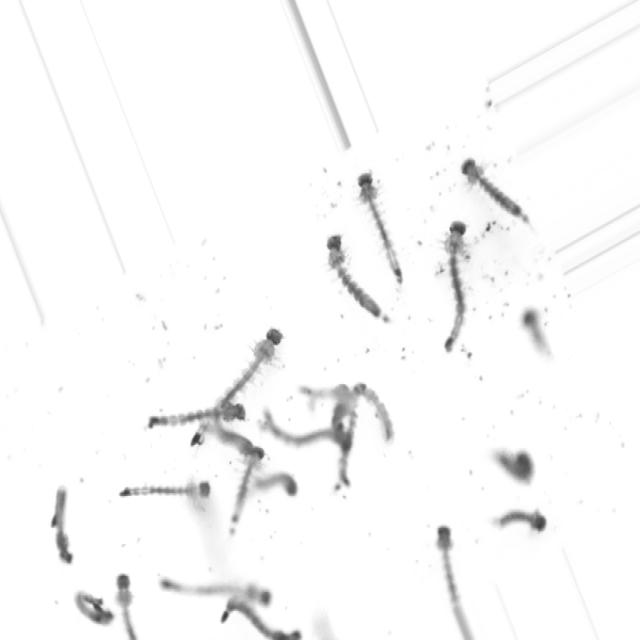larvas: (324, 238, 386, 320), (357, 172, 403, 279), (222, 330, 279, 401), (461, 156, 524, 218), (445, 223, 465, 350), (223, 606, 297, 640), (231, 450, 262, 523), (163, 582, 269, 602), (269, 422, 349, 448), (124, 478, 212, 500), (151, 406, 244, 426), (355, 381, 390, 433), (438, 522, 458, 597), (116, 571, 136, 639), (76, 589, 109, 626), (53, 488, 70, 558), (219, 426, 259, 453), (524, 312, 546, 351), (255, 476, 297, 495), (500, 513, 545, 530), (503, 456, 534, 478), (334, 399, 354, 431), (307, 385, 350, 398)
